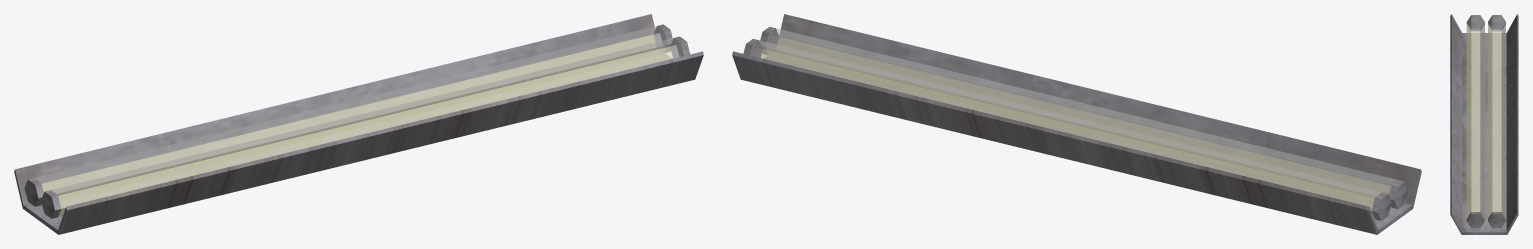
The model's file is light_sciroom.fbx.
3 views of the same model, side by side, from view 1: azimuth 30°, elevation 25°; view 2: azimuth 150°, elevation 25°; view 3: azimuth 270°, elevation 25° (orthographic). The views are drawn at different scales.
Visible parts, largest first — view 1: 平面.107; view 2: 平面.107; view 3: 平面.107.
Boxes of the visible parts, bbox=[...] form: 平面.107: bbox=[14, 14, 703, 234]; 平面.107: bbox=[732, 14, 1421, 234]; 平面.107: bbox=[1450, 14, 1518, 234].
Bounding box in the file's own units: 224 × 11.37 × 32.37.
